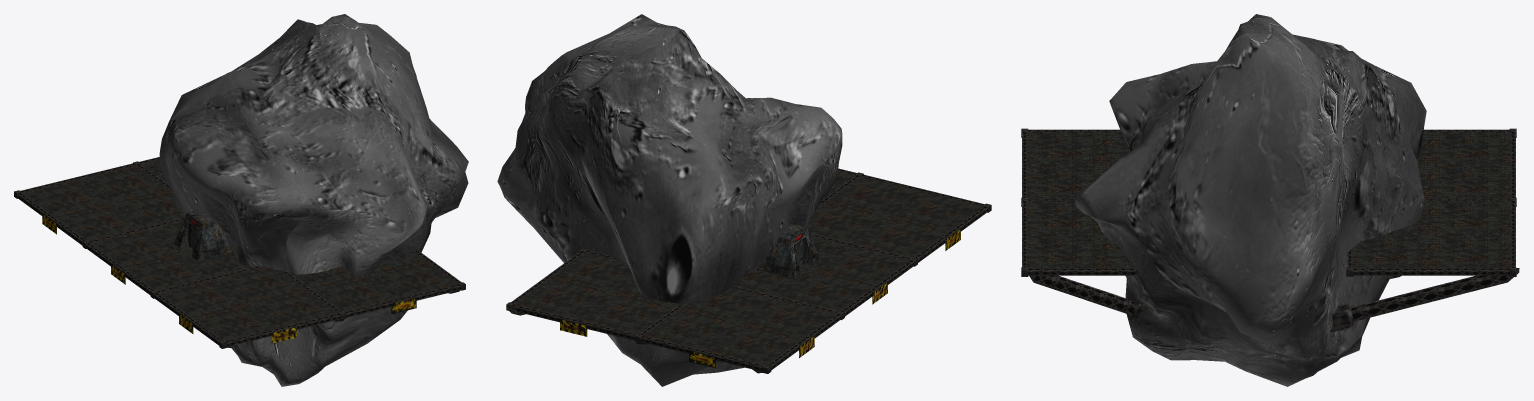
Rendered from Station03.fbx.
3 renders of one model, left to right at view 1: azimuth 30°, elevation 25°; view 2: azimuth 150°, elevation 25°; view 3: azimuth 270°, elevation 25°, orthographic. The views are drawn at different scales.
Parts seen in each view (by area): view 1: Sphere06, Box08, Object28; view 2: Sphere06, Box08, Object28; view 3: Sphere06, Box08.
Part boxes in pixels (<box>): Sphere06: <box>159,14,468,386</box>; Box08: <box>14,157,465,348</box>; Object28: <box>173,210,232,261</box>; Sphere06: <box>497,14,842,386</box>; Box08: <box>506,168,991,373</box>; Object28: <box>757,223,820,279</box>; Sphere06: <box>1074,14,1426,386</box>; Box08: <box>1021,128,1519,332</box>.
Bounding box in the file's own units: 738 × 624 × 764.
